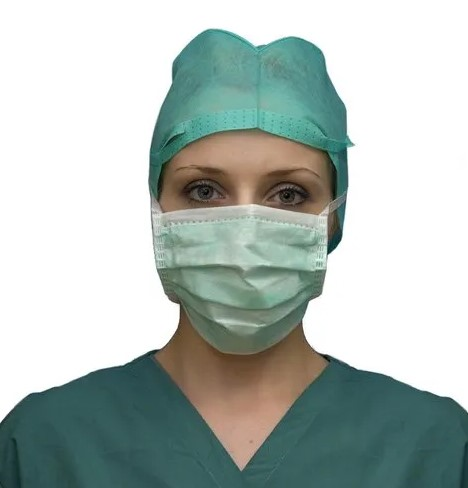with_mask_and_cap: (150, 47, 346, 356)
